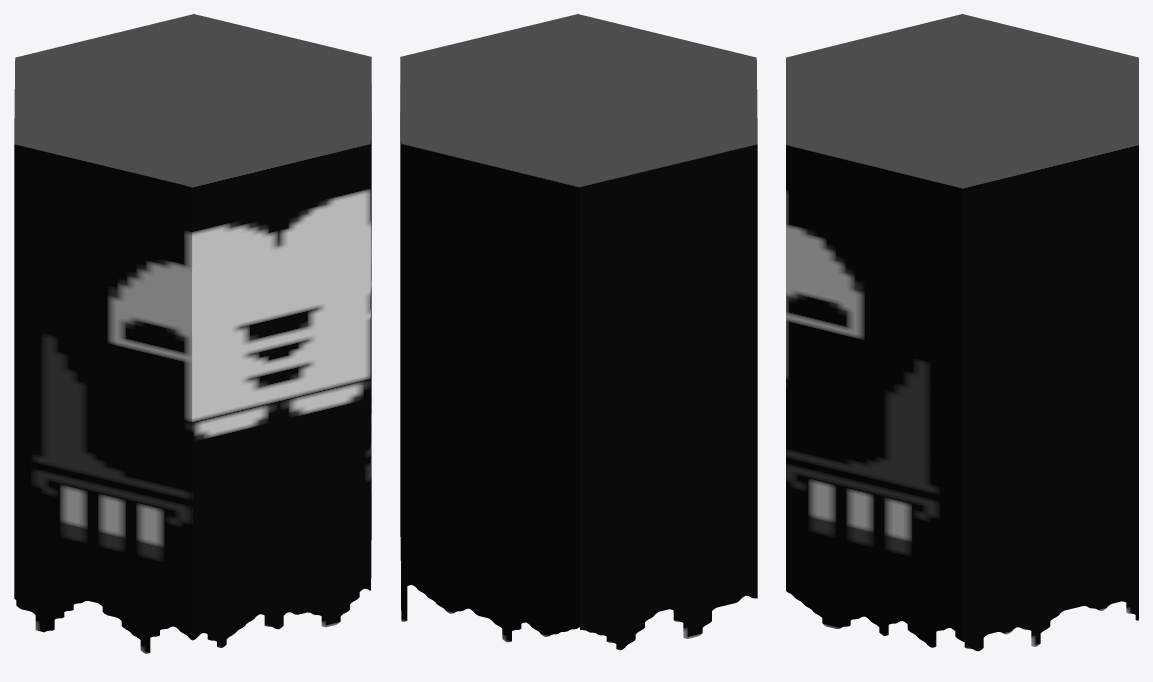
File: enm_totem@dead.fbx
3 views of the same model, side by side, from view 1: azimuth 30°, elevation 25°; view 2: azimuth 150°, elevation 25°; view 3: azimuth 270°, elevation 25° (orthographic).
Parts seen in each view (by area): view 1: enm_totem; view 2: enm_totem; view 3: enm_totem.
Boxes of the visible parts, x1=… form: enm_totem: x1=14, y1=14, x2=371, y2=653; enm_totem: x1=400, y1=14, x2=757, y2=650; enm_totem: x1=786, y1=14, x2=1138, y2=651.
Bounding box in the file's own units: 107 × 137 × 91.24.
1 material, 1 textured.
